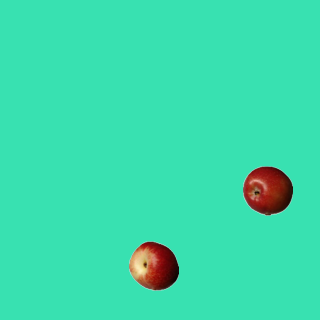Apple Braeburn: (242, 165, 292, 215)
Nectarine: (128, 240, 178, 290)
